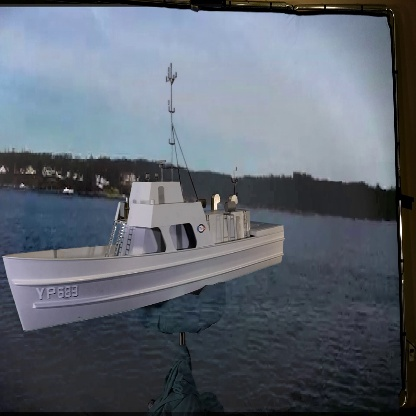YP689: (2, 61, 284, 333)
